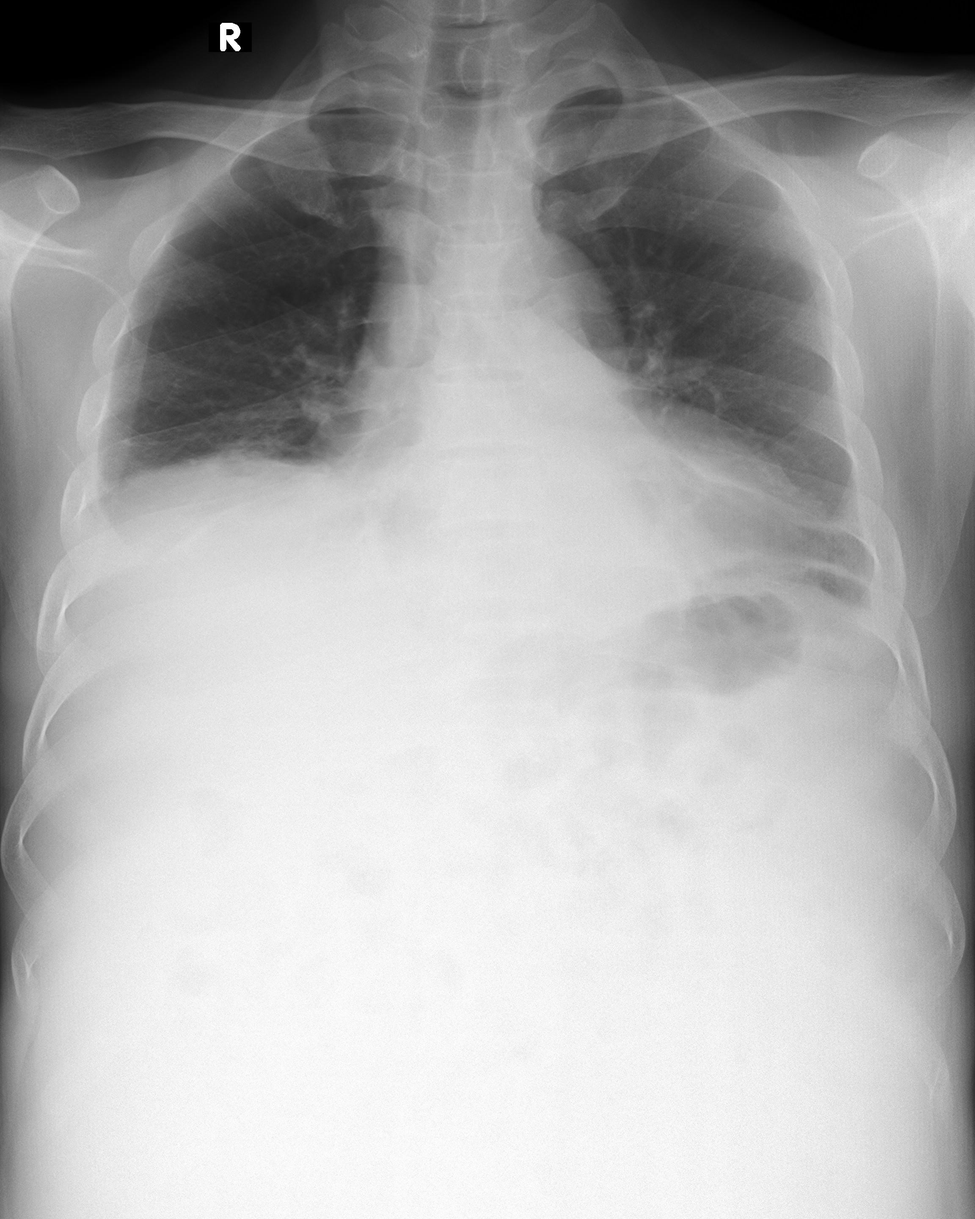Aortic enlargement: (470, 232, 624, 366)
Pulmonary fibrosis: (686, 455, 856, 532)
